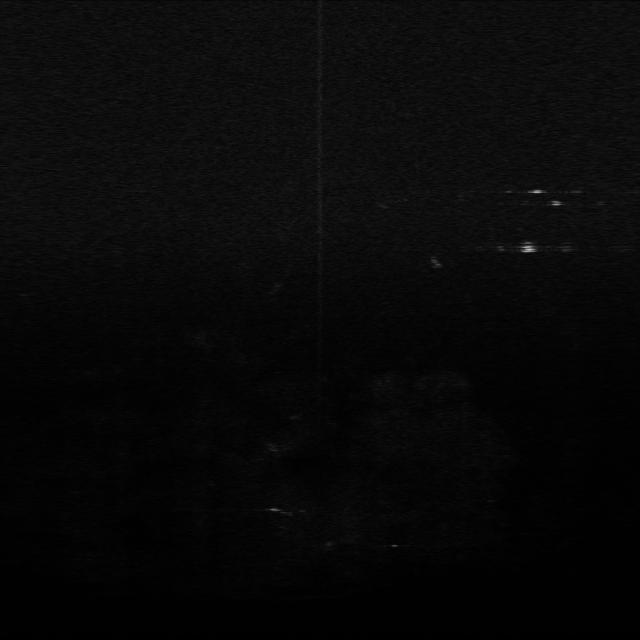rov: (516, 238, 540, 259)
